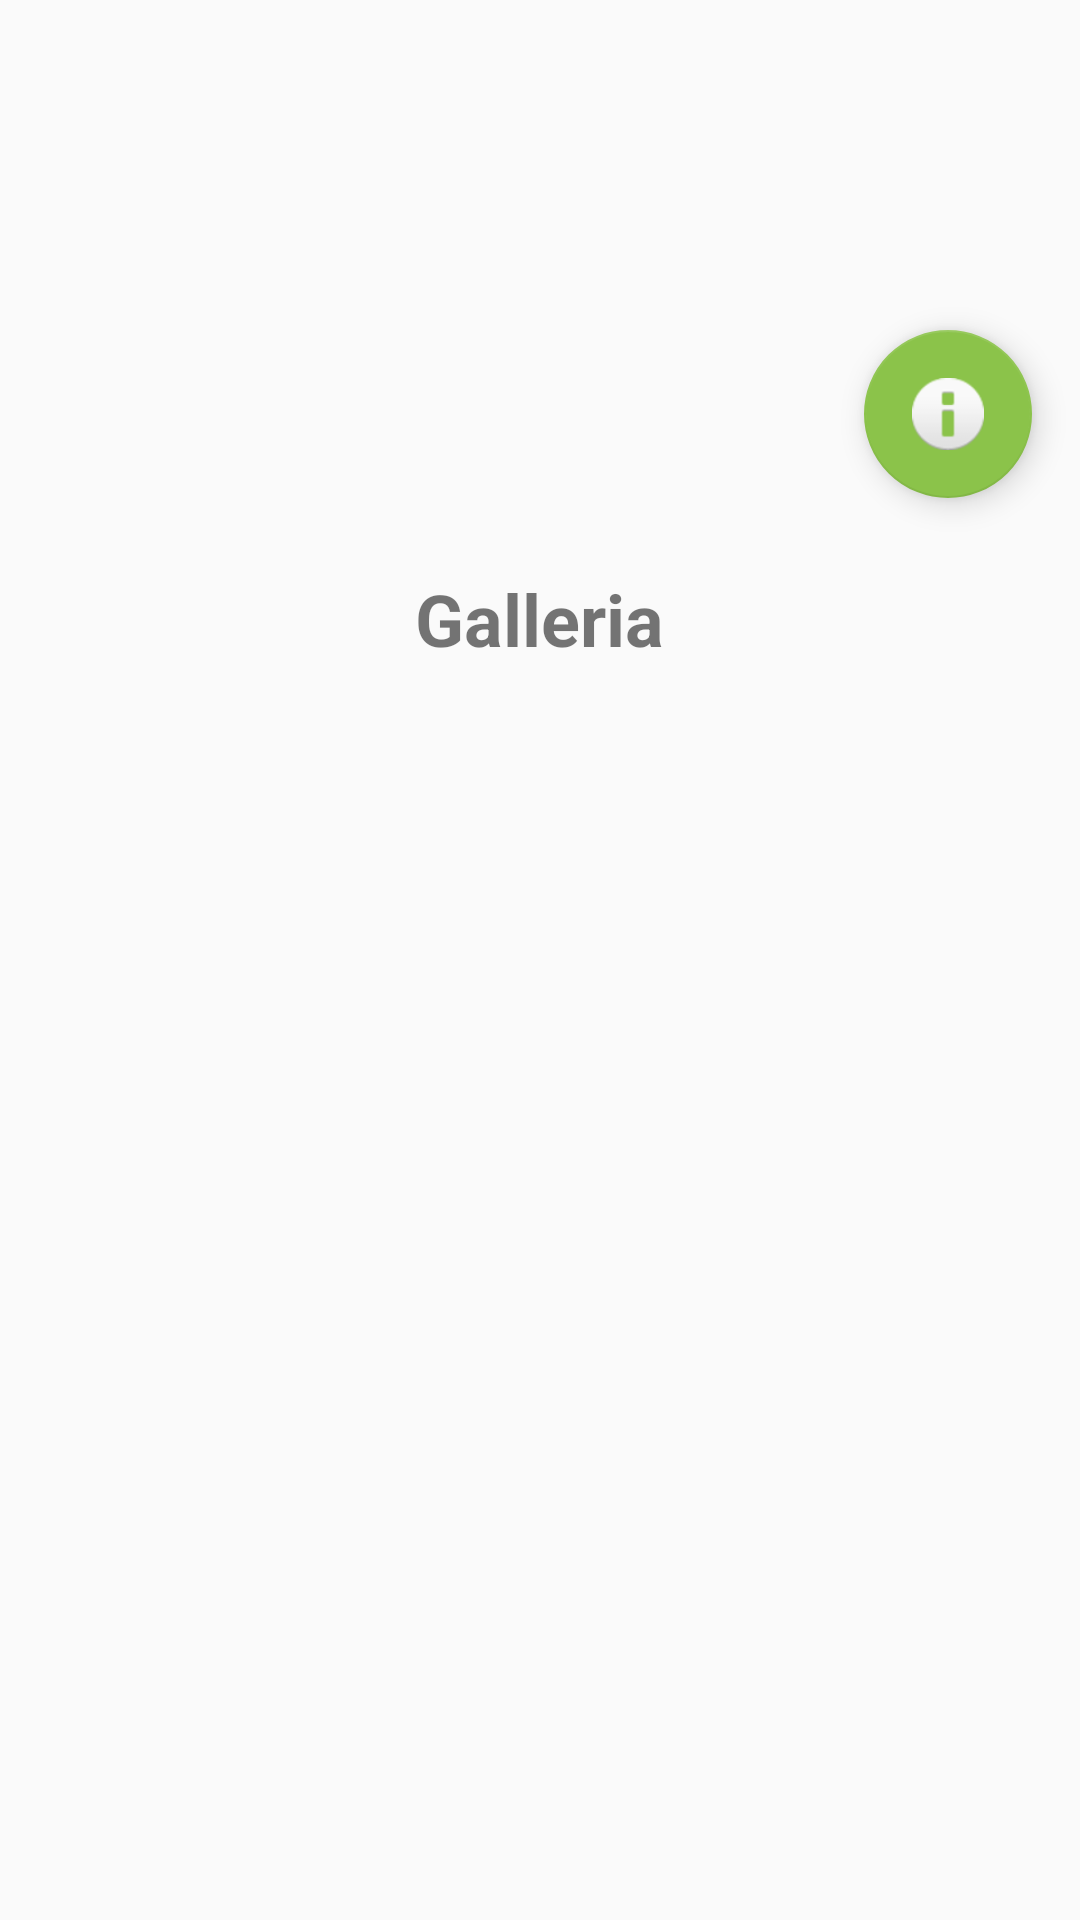

Icons on this 1080*1920 Android screen, each with its box as [x1,y1,x2,y2]:
info: [864,330,1032,498]
